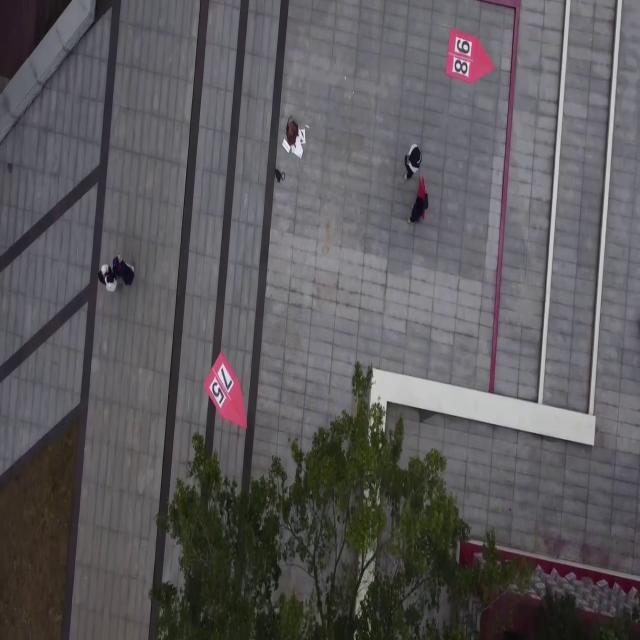-sign-: (204, 352, 247, 431), (445, 27, 495, 84)
